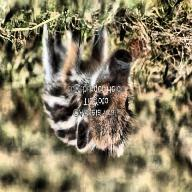boar: (34, 26, 168, 159)
